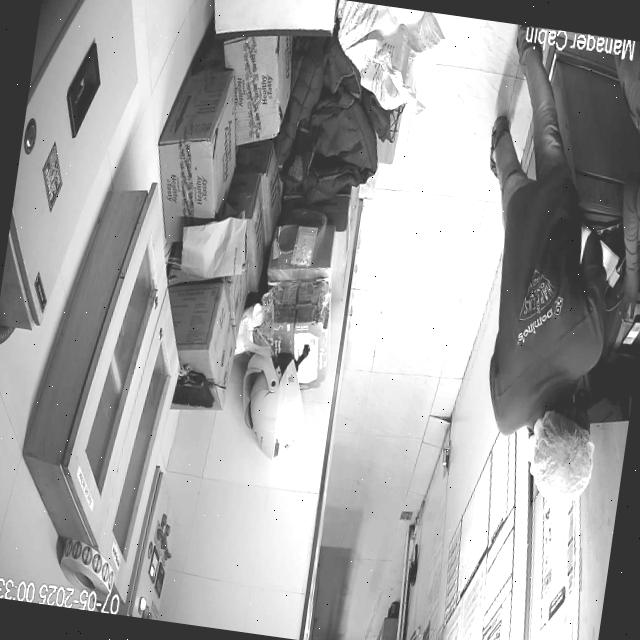helmet: (242, 354, 303, 461)
